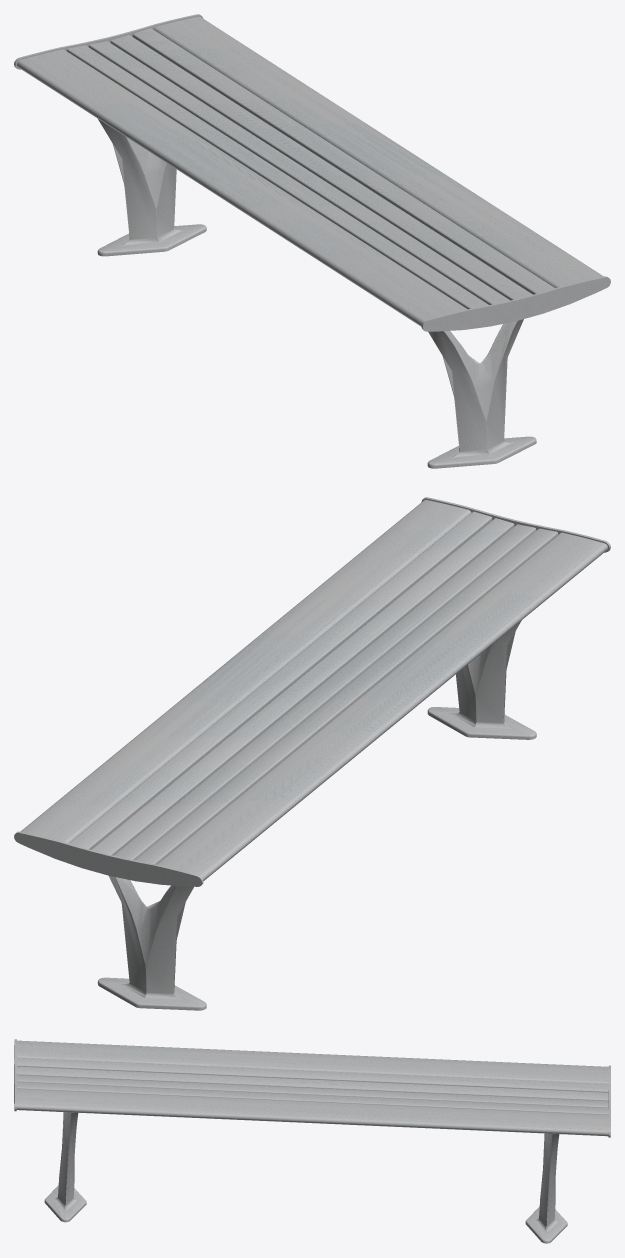
The model's file is bench.dae.
3 renders of one model, top to bottom at view 1: azimuth 30°, elevation 25°; view 2: azimuth 150°, elevation 25°; view 3: azimuth 270°, elevation 25°, orthographic. The views are drawn at different scales.
Parts seen in each view (by area): view 1: Layer_0 (×7); view 2: Layer_0 (×7); view 3: Layer_0 (×5).
Part boxes in pixels (x1,y1,x2,y2): Layer_0 (×7): [14, 14, 610, 468]; Layer_0 (×7): [14, 497, 610, 1010]; Layer_0 (×5): [16, 1040, 608, 1243].
Size of the model in its own units: 19.24 by 72.52 by 20.69.
